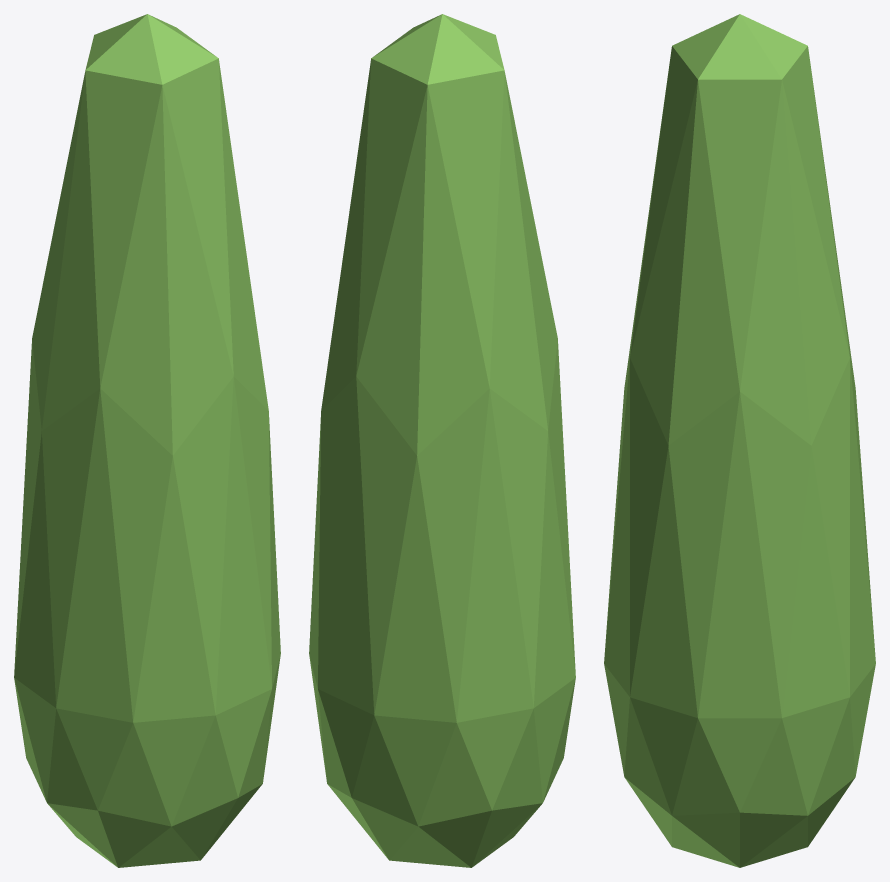
File: Thuja_BushTree_m_05_LOD.fbx
3 renders of one model, left to right at view 1: azimuth 30°, elevation 25°; view 2: azimuth 150°, elevation 25°; view 3: azimuth 270°, elevation 25°, orthographic.
Parts seen in each view (by area): view 1: Thuja_BushTree_m_05_LOD0; view 2: Thuja_BushTree_m_05_LOD0; view 3: Thuja_BushTree_m_05_LOD0.
Part boxes in pixels (box(x1,y1,x2,y2)): Thuja_BushTree_m_05_LOD0: box(14, 14, 280, 867); Thuja_BushTree_m_05_LOD0: box(309, 14, 575, 867); Thuja_BushTree_m_05_LOD0: box(604, 14, 875, 867).
Size of what is drawn, in the model's own units: 114 by 406 by 120.
